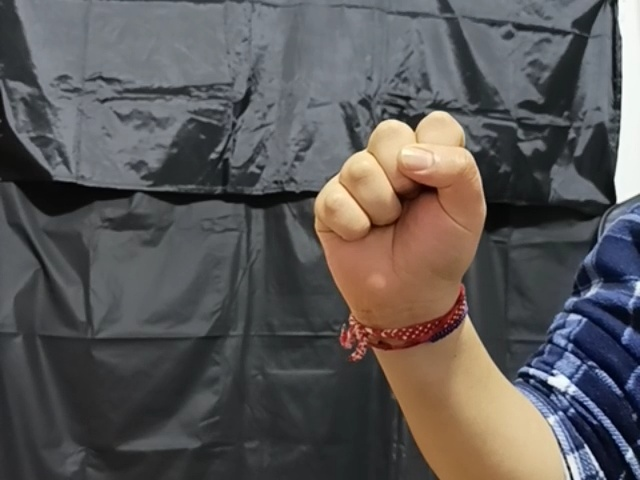S: (312, 108, 492, 313)
